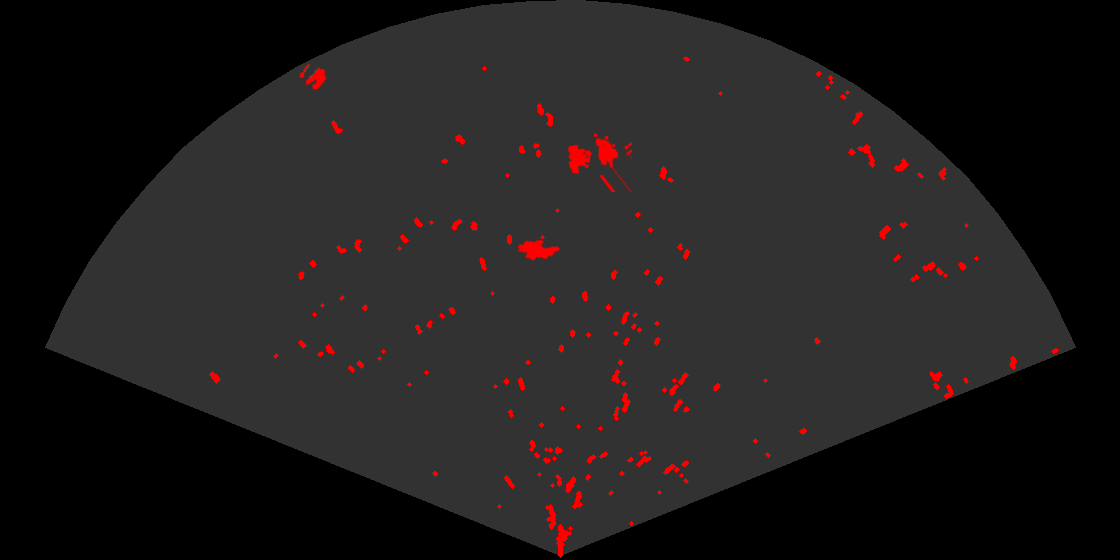AUV: (516, 238, 562, 262)
ball: (298, 62, 328, 92)
cage: (566, 132, 632, 192)
